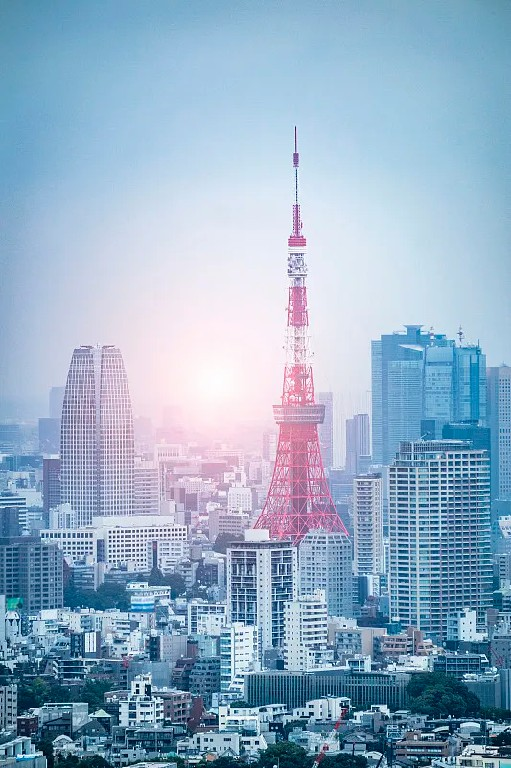Tokyo: (251, 120, 349, 536)
